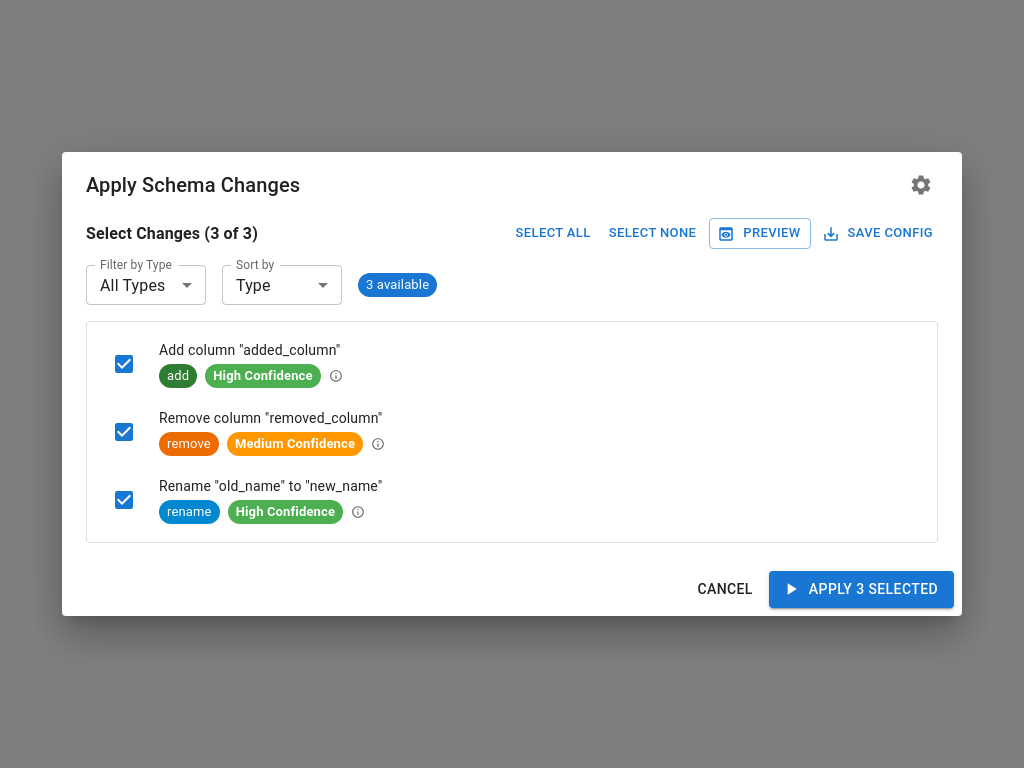
Test case: Bulk Operations with Confidence Information › should update confidence distribution when selection changes
This screenshot has width=1024, height=768.
Expected: the heading "Select Changes (3 of 3)" is shown, [86,220,258,248]
Click the checkbox next to "Remove column \"removed_column\"": [124, 432] box [112,420,136,444]
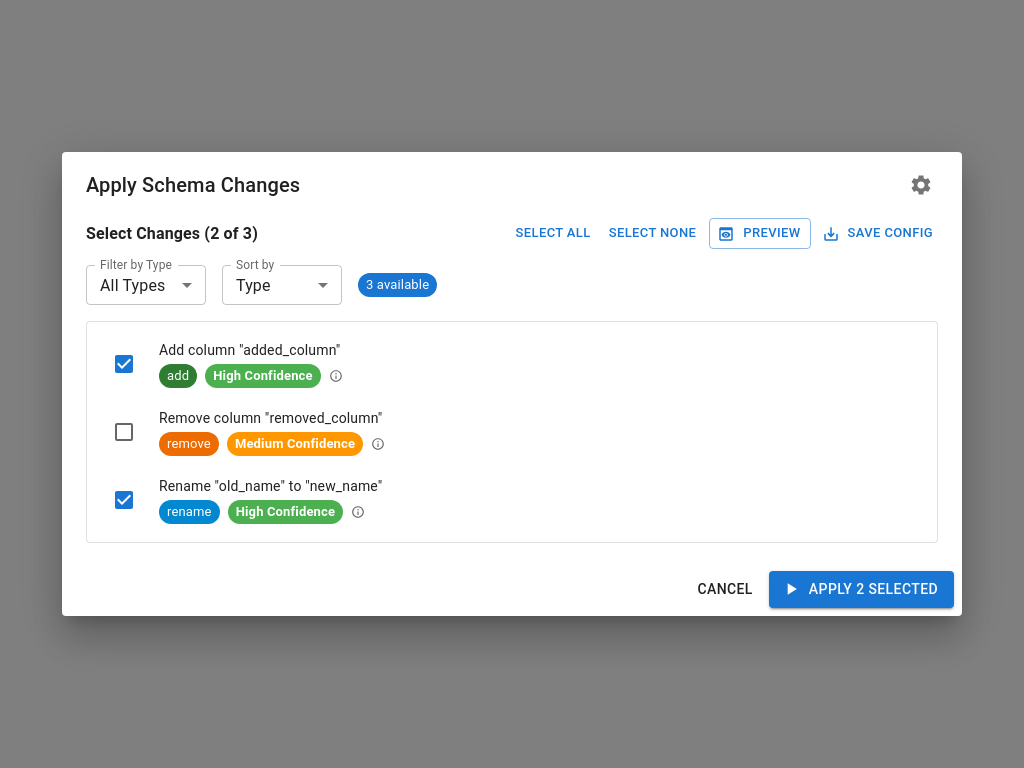
Result: the heading "Select Changes (2 of 3)" is shown at [86,220,258,248]
# Click preview to see updated confidence distribution
Click the button "Preview": [760, 234] box [709,218,810,249]
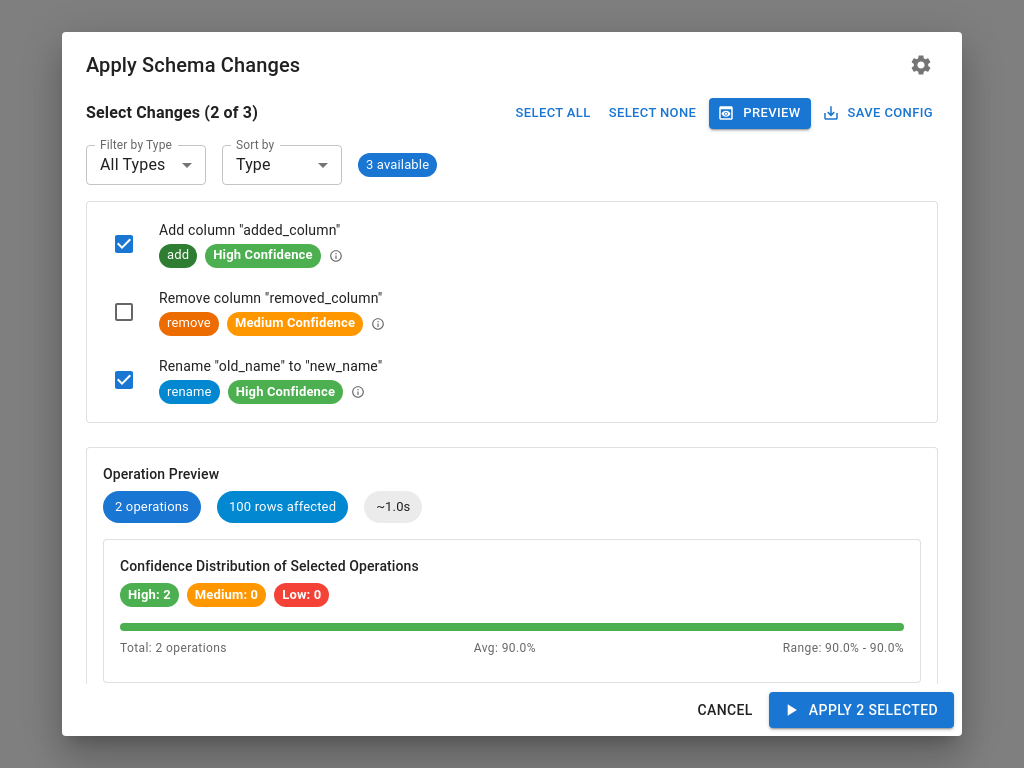
Result: the text "High: 2" is shown at [128,587,171,602]
Result: the text "Medium: 0" is shown at [195,587,258,602]
